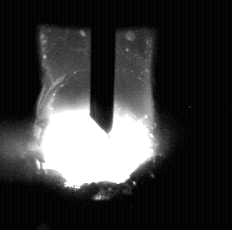arame: (91, 0, 115, 138)
poca: (35, 0, 157, 230)
